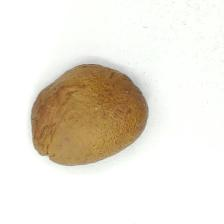NG: (31, 81, 78, 161)
